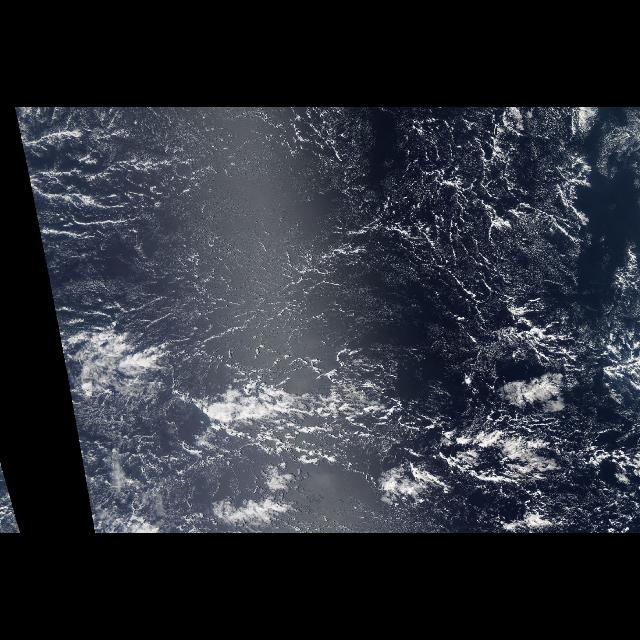Gravel: (401, 121, 517, 313)
Sugar: (28, 108, 640, 380)
